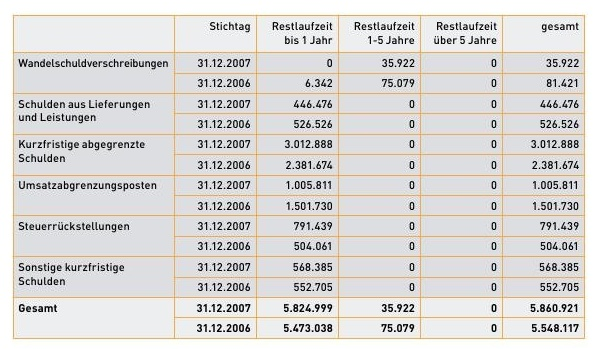table: (0, 0, 598, 349)
